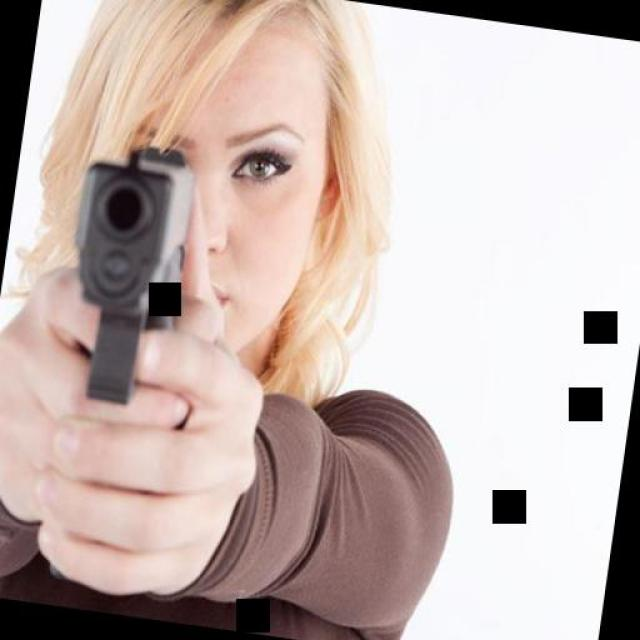gun: (45, 131, 205, 415)
